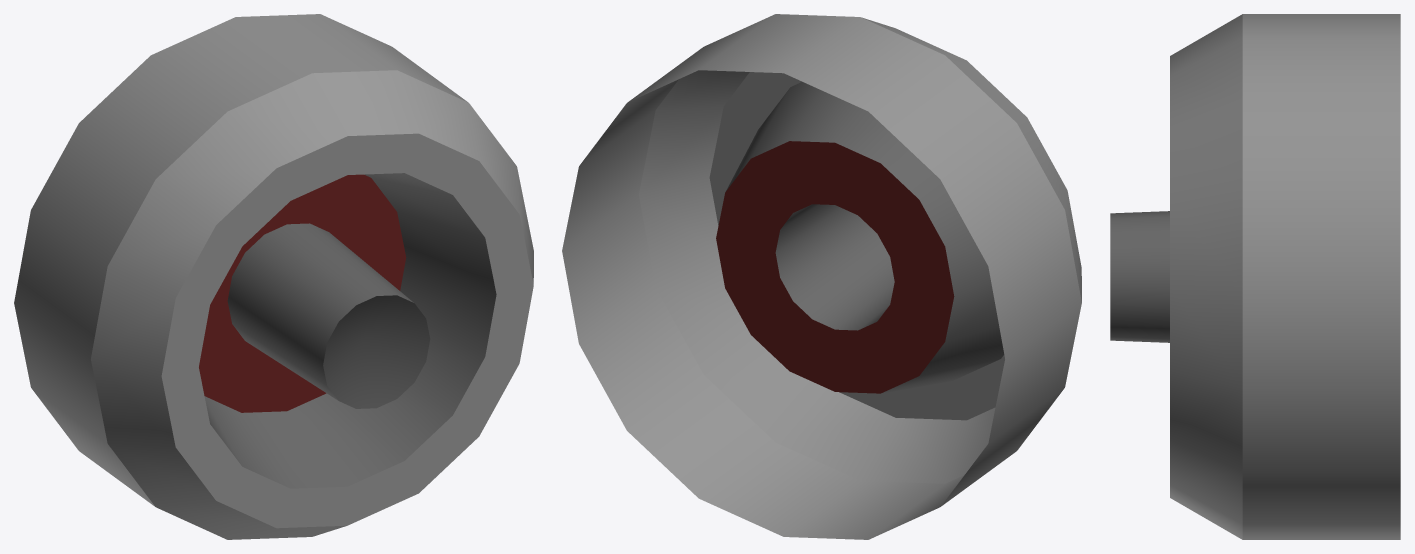
File: MA_LaserEmitter.fbx
The picture shows the model from 3 angles, left to right: view 1: azimuth 30°, elevation 25°; view 2: azimuth 150°, elevation 25°; view 3: azimuth 270°, elevation 25°; orthographic projection. The views are drawn at different scales.
Parts seen in each view (by area): view 1: M_LaserEmitter; view 2: M_LaserEmitter; view 3: M_LaserEmitter.
Boxes of the visible parts, box(x1,y1,x2,y2) form: M_LaserEmitter: box(14, 14, 533, 539); M_LaserEmitter: box(562, 14, 1081, 539); M_LaserEmitter: box(1110, 14, 1400, 539).
Size of the model in its own units: 200 by 200 by 110.
